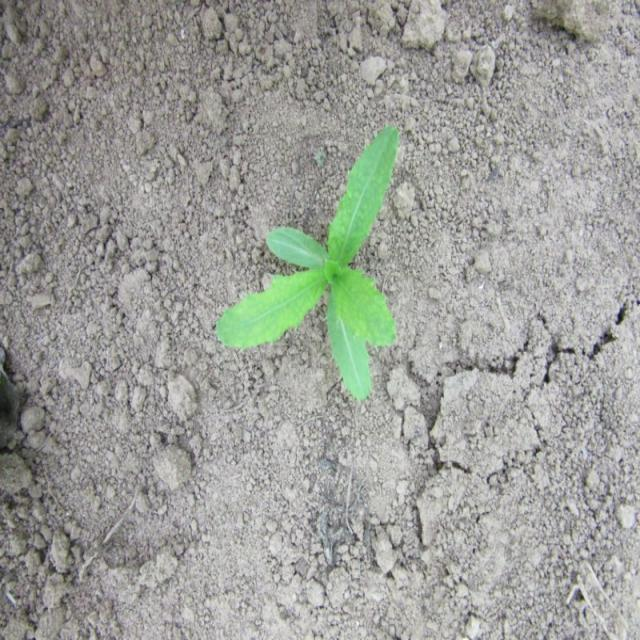field_thistle: (182, 119, 438, 412)
